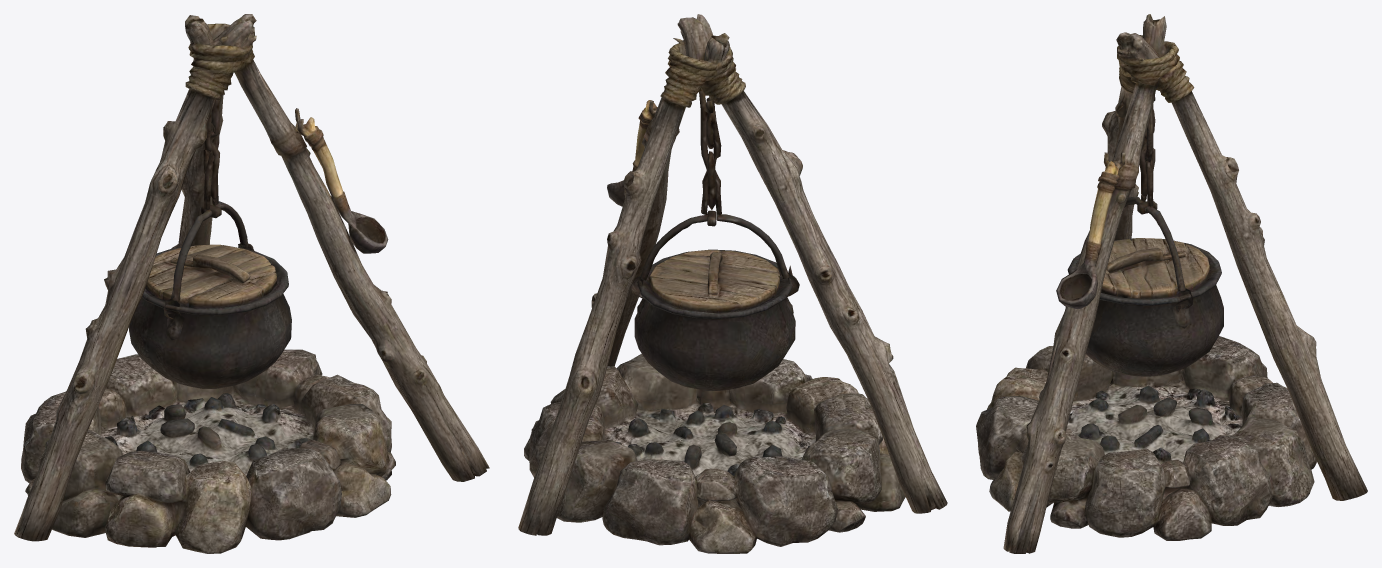
File: kf_kettle_tripod.glb
3 views of the same model, side by side, from view 1: azimuth 30°, elevation 25°; view 2: azimuth 150°, elevation 25°; view 3: azimuth 270°, elevation 25° (orthographic). The views are drawn at different scales.
Visible parts, largest first — view 1: kf_kettle_tripod; view 2: kf_kettle_tripod; view 3: kf_kettle_tripod.
Boxes of the visible parts, box(x1,y1,x2,y2) form: kf_kettle_tripod: box(14, 14, 489, 553); kf_kettle_tripod: box(518, 14, 947, 553); kf_kettle_tripod: box(976, 14, 1367, 553).
Size of the model in its own units: 1.75 by 1.8 by 1.45.
Materials: 1 (1 with a texture image).
